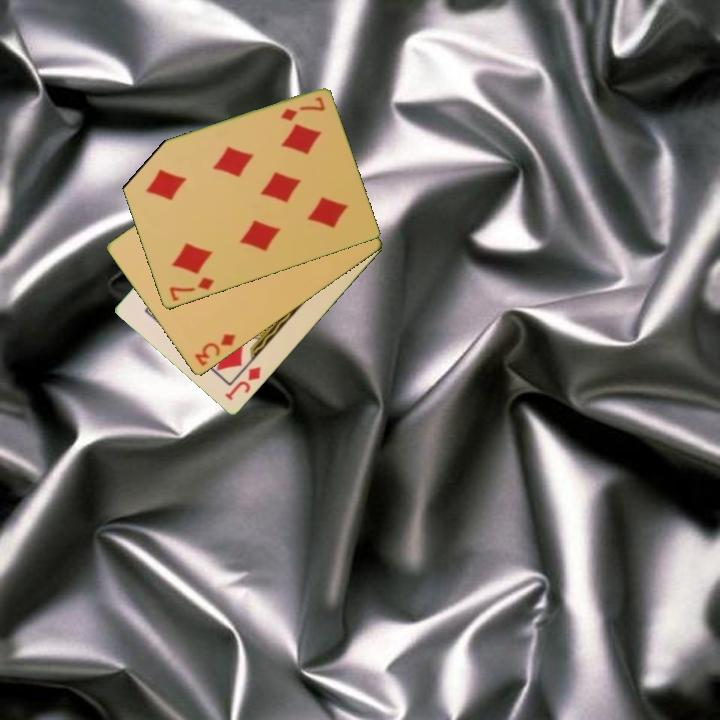3d: (191, 330, 238, 369)
7d: (277, 93, 328, 124), (166, 274, 217, 304)
Jd: (221, 363, 264, 404)
